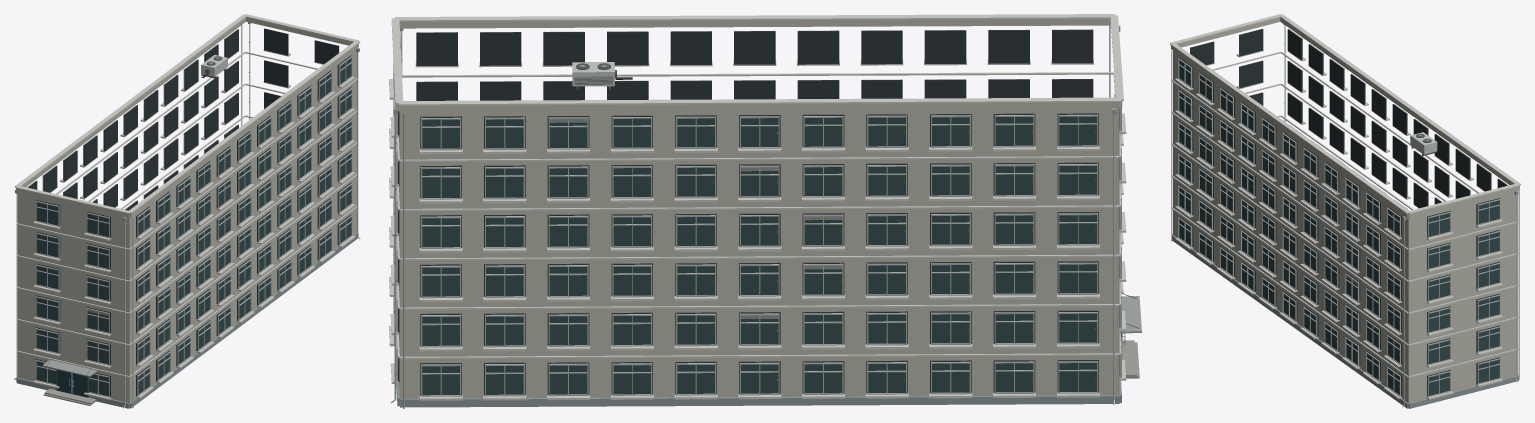
Rendered from osm_way_1173057030.glb.
The picture shows the model from 3 angles, left to right: view 1: azimuth 30°, elevation 25°; view 2: azimuth 150°, elevation 25°; view 3: azimuth 270°, elevation 25°; orthographic projection. The views are drawn at different scales.
Visible parts, largest first — view 1: Windows and facade details | osm_way_1173057030, Architecture | osm_way_1173057030, Roof services | osm_way_1173057030, EXTERIOR::osm_way_1173057030::rainwater and roof service det, EXTERIOR::osm_way_1173057030::inferred entry doors canopy an; view 2: Windows and facade details | osm_way_1173057030, Architecture | osm_way_1173057030, Roof services | osm_way_1173057030, EXTERIOR::osm_way_1173057030::rainwater and roof service det, EXTERIOR::osm_way_1173057030::inferred entry doors canopy an, EXTERIOR::osm_way_1173057030::native pane seals and hardware; view 3: Windows and facade details | osm_way_1173057030, Architecture | osm_way_1173057030, Roof services | osm_way_1173057030, EXTERIOR::osm_way_1173057030::rainwater and roof service det.
Boxes of the visible parts, left/top/right/bottom form: Windows and facade details | osm_way_1173057030: left=27, top=25, right=355, bottom=408; Architecture | osm_way_1173057030: left=16, top=17, right=358, bottom=408; Roof services | osm_way_1173057030: left=14, top=14, right=360, bottom=213; EXTERIOR::osm_way_1173057030::rainwater and roof service det: left=14, top=22, right=360, bottom=408; EXTERIOR::osm_way_1173057030::inferred entry doors canopy an: left=42, top=355, right=97, bottom=405; Windows and facade details | osm_way_1173057030: left=389, top=25, right=1126, bottom=408; Architecture | osm_way_1173057030: left=396, top=19, right=1122, bottom=407; Roof services | osm_way_1173057030: left=391, top=14, right=1123, bottom=105; EXTERIOR::osm_way_1173057030::rainwater and roof service det: left=390, top=25, right=1120, bottom=404; EXTERIOR::osm_way_1173057030::inferred entry doors canopy an: left=1120, top=293, right=1141, bottom=378; EXTERIOR::osm_way_1173057030::native pane seals and hardware: left=458, top=119, right=1095, bottom=381; Windows and facade details | osm_way_1173057030: left=1171, top=29, right=1519, bottom=399; Architecture | osm_way_1173057030: left=1171, top=17, right=1519, bottom=408; Roof services | osm_way_1173057030: left=1170, top=14, right=1520, bottom=214; EXTERIOR::osm_way_1173057030::rainwater and roof service det: left=1283, top=24, right=1518, bottom=407.
Bounding box in the file's own units: 42.96 × 20.58 × 31.97.
